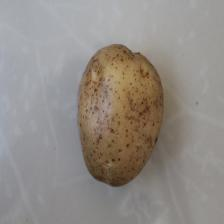Diseased-fungal potato: (74, 39, 164, 187)
